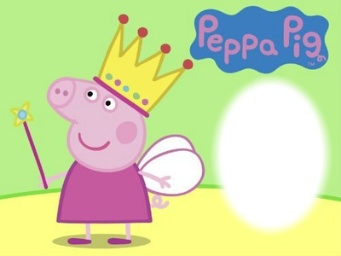Peppa: (46, 75, 164, 248)
